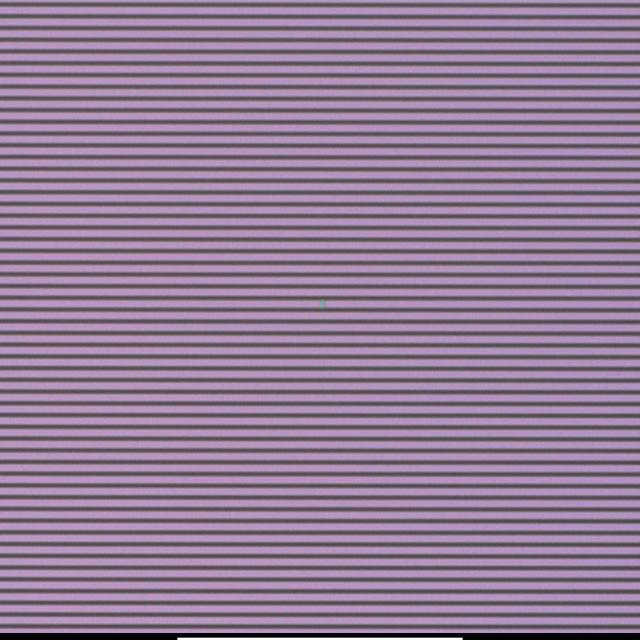03_intrusion: (316, 299, 330, 311)
